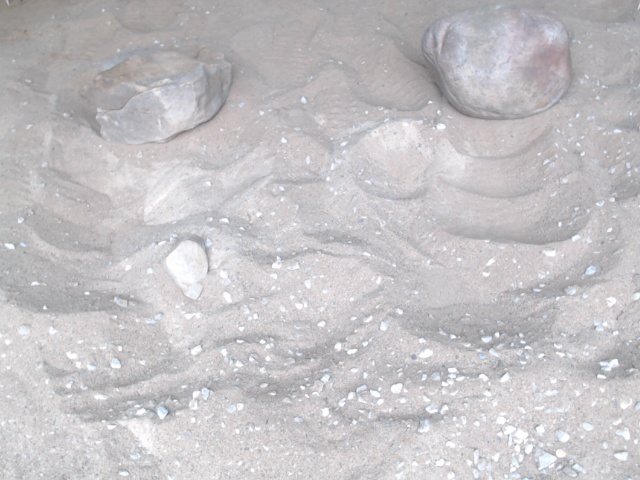rock: (415, 1, 580, 126), (71, 36, 237, 153), (154, 227, 218, 307)
